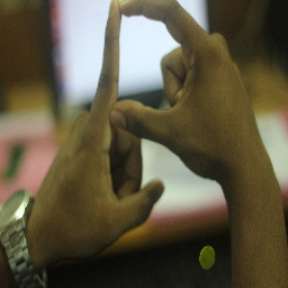D: (97, 1, 222, 156)
